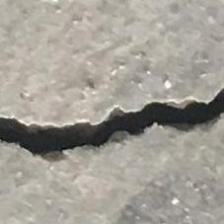Crack: (0, 80, 224, 176)
